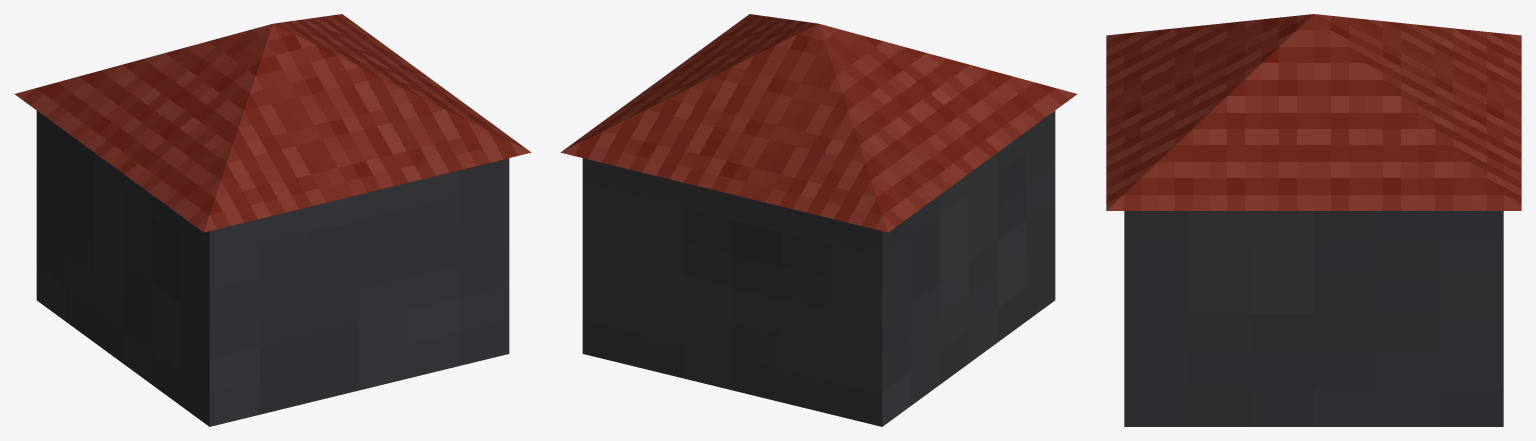
File: Small Hut 1 LowPoly.fbx
3 renders of one model, left to right at view 1: azimuth 30°, elevation 25°; view 2: azimuth 150°, elevation 25°; view 3: azimuth 270°, elevation 25°, orthographic. The views are drawn at different scales.
Visible parts, largest first — view 1: Small Hut 1 Concrete LOD, Small Hut 1 Brick LOD; view 2: Small Hut 1 Concrete LOD, Small Hut 1 Brick LOD; view 3: Small Hut 1 Concrete LOD, Small Hut 1 Brick LOD.
Part boxes in pixels (box(x1,y1,x2,y2)): Small Hut 1 Concrete LOD: box(36, 111, 509, 426); Small Hut 1 Brick LOD: box(14, 14, 531, 232); Small Hut 1 Concrete LOD: box(582, 111, 1055, 426); Small Hut 1 Brick LOD: box(560, 14, 1077, 232); Small Hut 1 Concrete LOD: box(1124, 211, 1503, 426); Small Hut 1 Brick LOD: box(1106, 14, 1521, 210).
Bounding box in the file's own units: 1750 × 1547 × 1750.
Materials: 2 (2 with a texture image).
